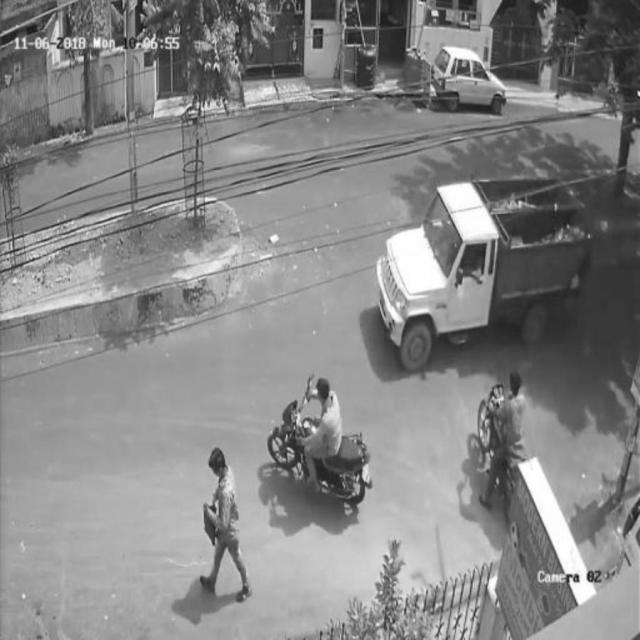person: (204, 448, 249, 613)
vehicle: (375, 177, 589, 363), (268, 368, 374, 515), (477, 379, 539, 513), (429, 47, 506, 117)
